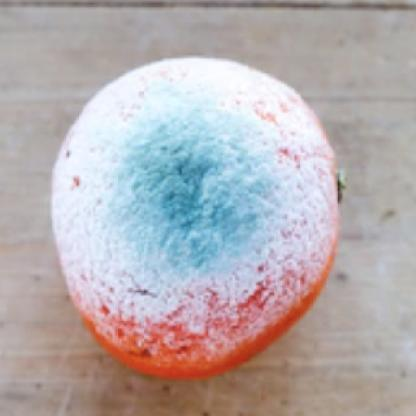rotten: (52, 56, 342, 384)
